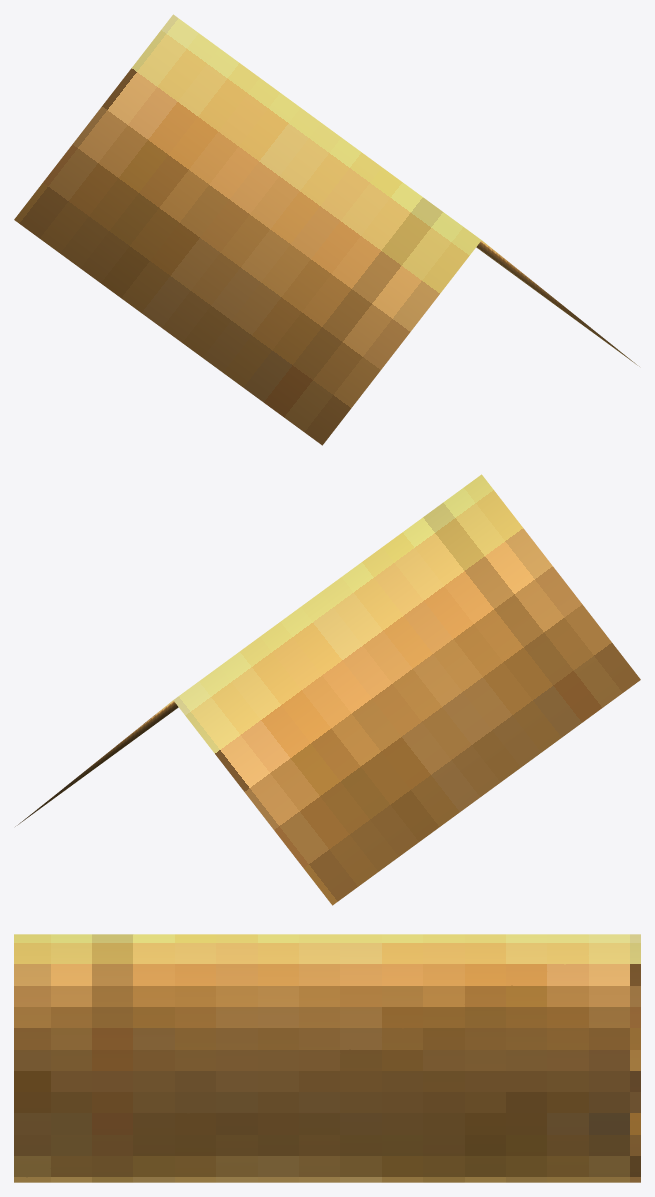
File: Bullet_Casing.fbx
3 renders of one model, top to bottom at view 1: azimuth 30°, elevation 25°; view 2: azimuth 150°, elevation 25°; view 3: azimuth 270°, elevation 25°, orthographic.
Visible parts, largest first — view 1: 45_Casing.001; view 2: 45_Casing.001; view 3: 45_Casing.001.
Part boxes in pixels (left/top/right/bottom): 45_Casing.001: left=14, top=14, right=639, bottom=445; 45_Casing.001: left=15, top=474, right=640, bottom=905; 45_Casing.001: left=14, top=934, right=640, bottom=1182.
Size of the model in its own units: 0.0132 by 0.0066 by 0.0222.
